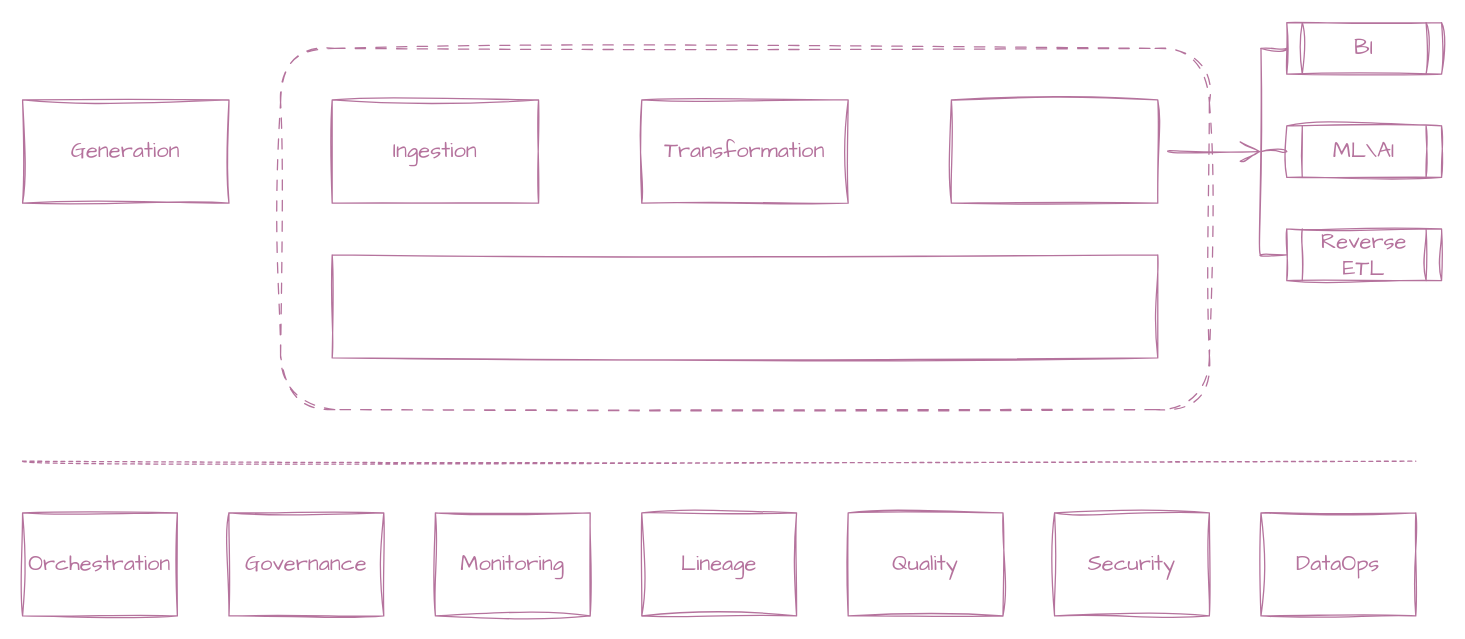
Some shapes in this 1465 by 639 pixel diagram are drawn without their labels. The centre of each missing label's shape, as x and y in pixels:
Serving: pixel 1054 151
Storage: pixel 744 305
